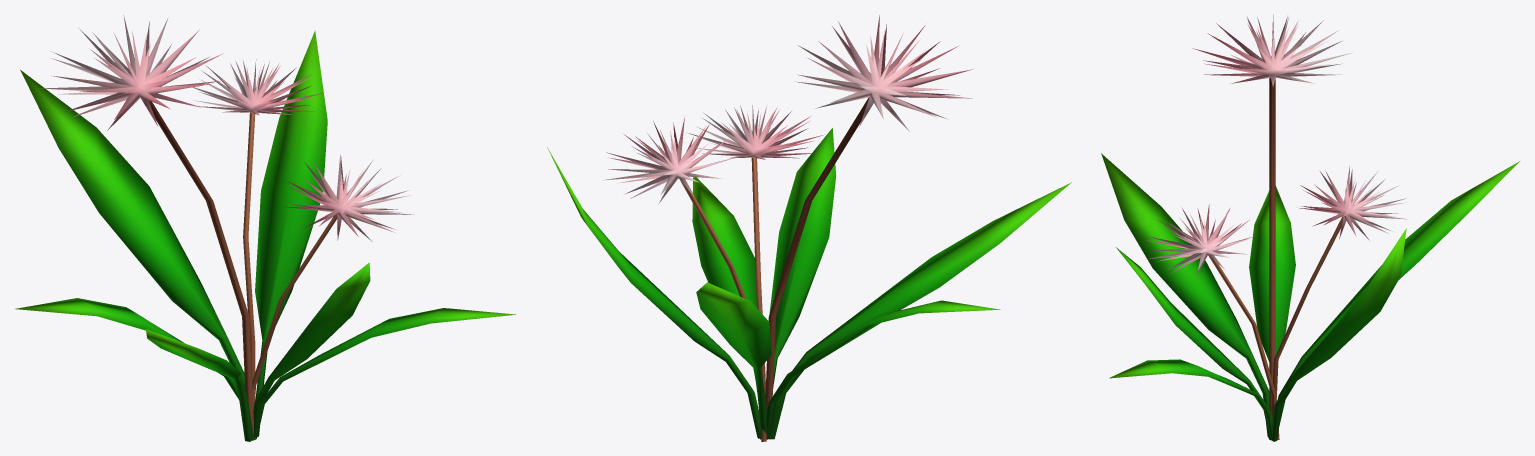
3 views of the same model, side by side, from view 1: azimuth 30°, elevation 25°; view 2: azimuth 150°, elevation 25°; view 3: azimuth 270°, elevation 25° (orthographic). The views are drawn at different scales.
Visible parts, largest first — view 1: fp02; view 2: fp02; view 3: fp02.
Boxes of the visible parts, <box> form: fp02: <box>15,15,515,441</box>; fp02: <box>547,15,1071,441</box>; fp02: <box>1101,14,1519,441</box>.
Size of the model in its own units: 71.94 by 72.97 by 75.41.
